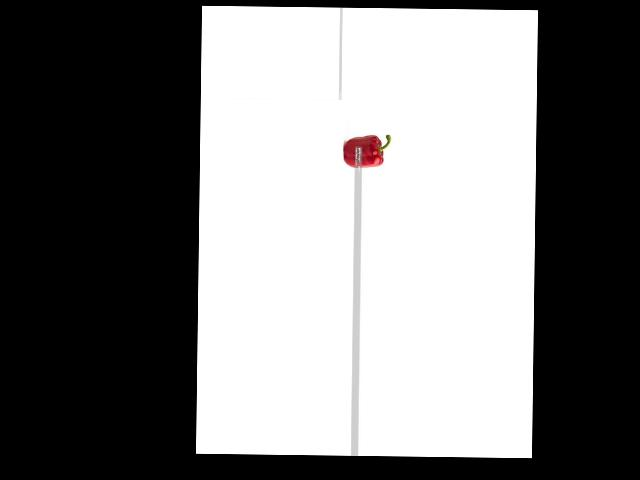bell_pepper: (344, 129, 393, 170)
